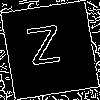Z: (25, 25, 66, 75)
